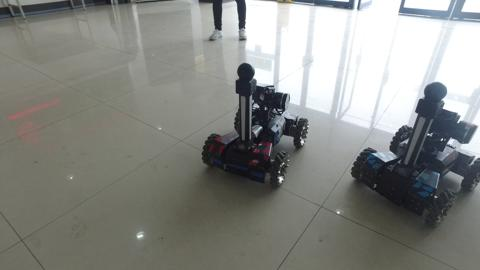chariot: (348, 78, 479, 230), (196, 61, 321, 192)
